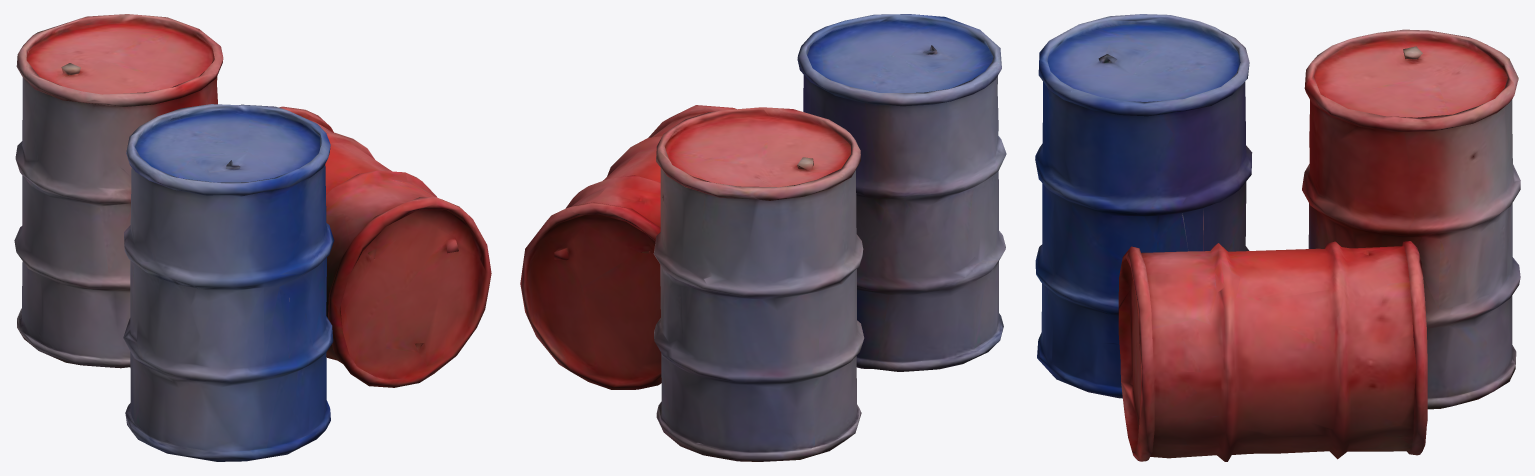
File: gr_barrels.glb
3 renders of one model, left to right at view 1: azimuth 30°, elevation 25°; view 2: azimuth 150°, elevation 25°; view 3: azimuth 270°, elevation 25°, orthographic. The views are drawn at different scales.
Visible parts, largest first — view 1: tripo_node_de45dbcf-e4a5-4428-b684-6de5f46bb15f; view 2: tripo_node_de45dbcf-e4a5-4428-b684-6de5f46bb15f; view 3: tripo_node_de45dbcf-e4a5-4428-b684-6de5f46bb15f.
Boxes of the visible parts, x1=… form: tripo_node_de45dbcf-e4a5-4428-b684-6de5f46bb15f: x1=14, y1=14, x2=491, y2=461; tripo_node_de45dbcf-e4a5-4428-b684-6de5f46bb15f: x1=520, y1=14, x2=1006, y2=461; tripo_node_de45dbcf-e4a5-4428-b684-6de5f46bb15f: x1=1035, y1=14, x2=1520, y2=461.
Bounding box in the file's own units: 0.9047 × 0.6862 × 1.
1 material, 1 textured.
